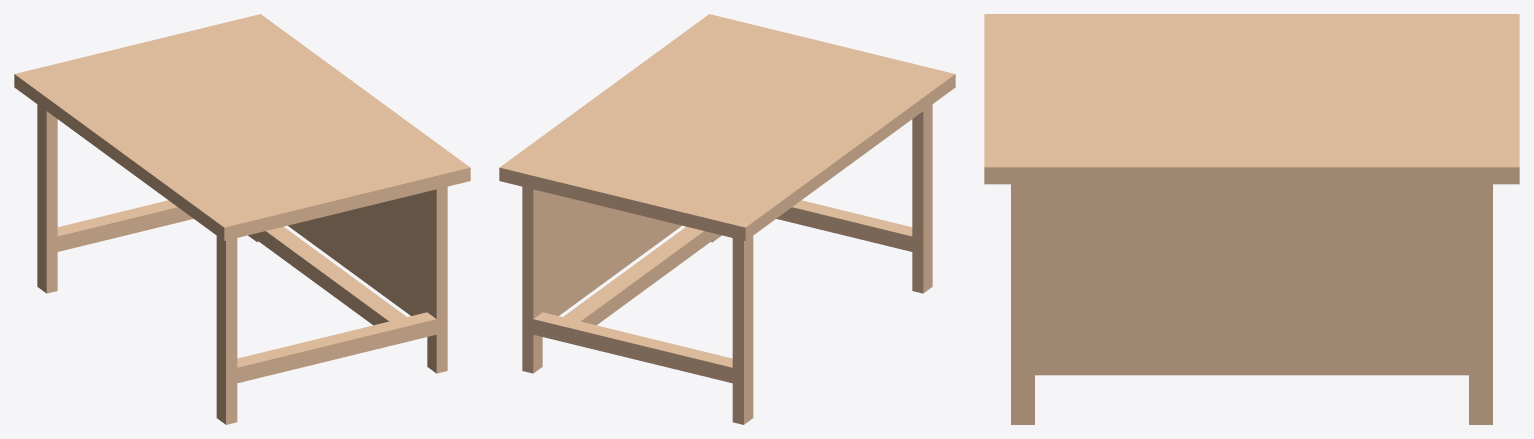
Rendered from Office_Table.fbx.
The picture shows the model from 3 angles, left to right: view 1: azimuth 30°, elevation 25°; view 2: azimuth 150°, elevation 25°; view 3: azimuth 270°, elevation 25°; orthographic projection. The views are drawn at different scales.
Parts seen in each view (by area): view 1: Office_Table; view 2: Office_Table; view 3: Office_Table.
Boxes of the visible parts, <box> form: Office_Table: <box>14,14,470,424</box>; Office_Table: <box>499,14,955,424</box>; Office_Table: <box>984,14,1519,424</box>.
Size of the model in its own units: 49.39 by 39.88 by 72.93.
